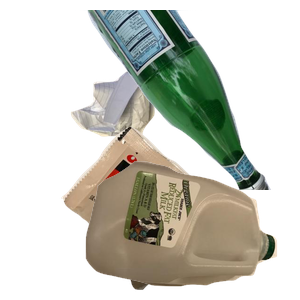glass: (75, 10, 300, 190)
paper: (68, 66, 215, 197)
plastic: (83, 159, 300, 300)
trash: (59, 124, 273, 300)
